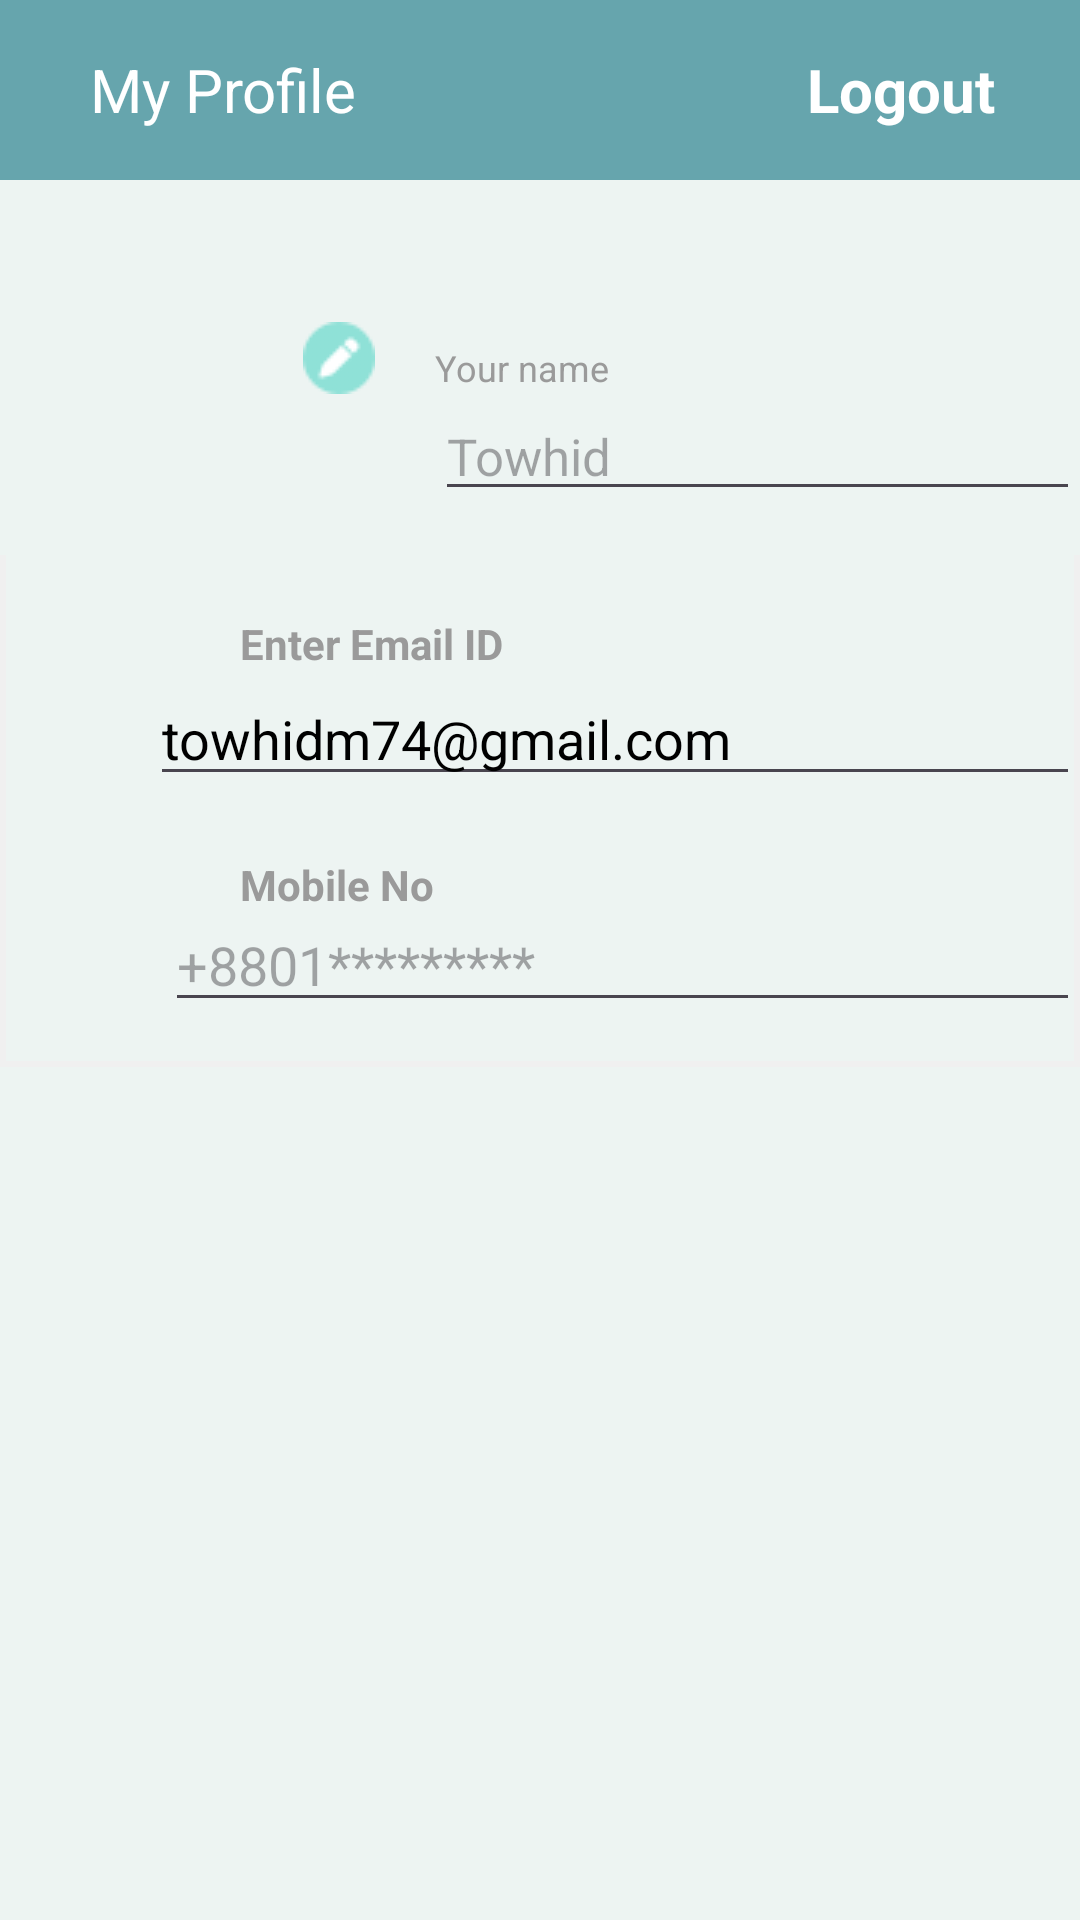

Icon click points for this 1080*1920 phone screenshot, format (x,y):
pen: (339,358)
